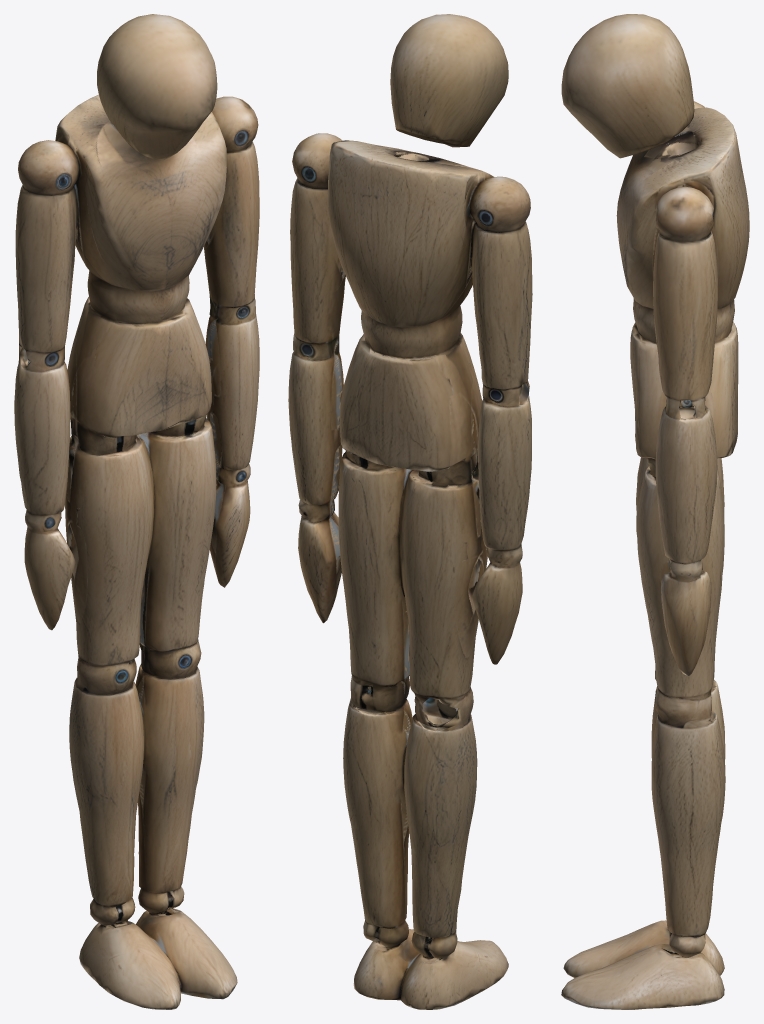
Rendered from VAR_DollRoom_Doll_Bowed.fbx.
3 views of the same model, side by side, from view 1: azimuth 30°, elevation 25°; view 2: azimuth 150°, elevation 25°; view 3: azimuth 270°, elevation 25° (orthographic).
Visible parts, largest first — view 1: texture_mapping; view 2: texture_mapping; view 3: texture_mapping.
Part boxes in pixels (box(x1,y1,x2,y2)): texture_mapping: box(14, 14, 259, 1009); texture_mapping: box(288, 14, 532, 1009); texture_mapping: box(561, 14, 749, 1009).
Size of the model in its own units: 0.2593 by 0.1773 by 1.
1 material, 1 textured.
